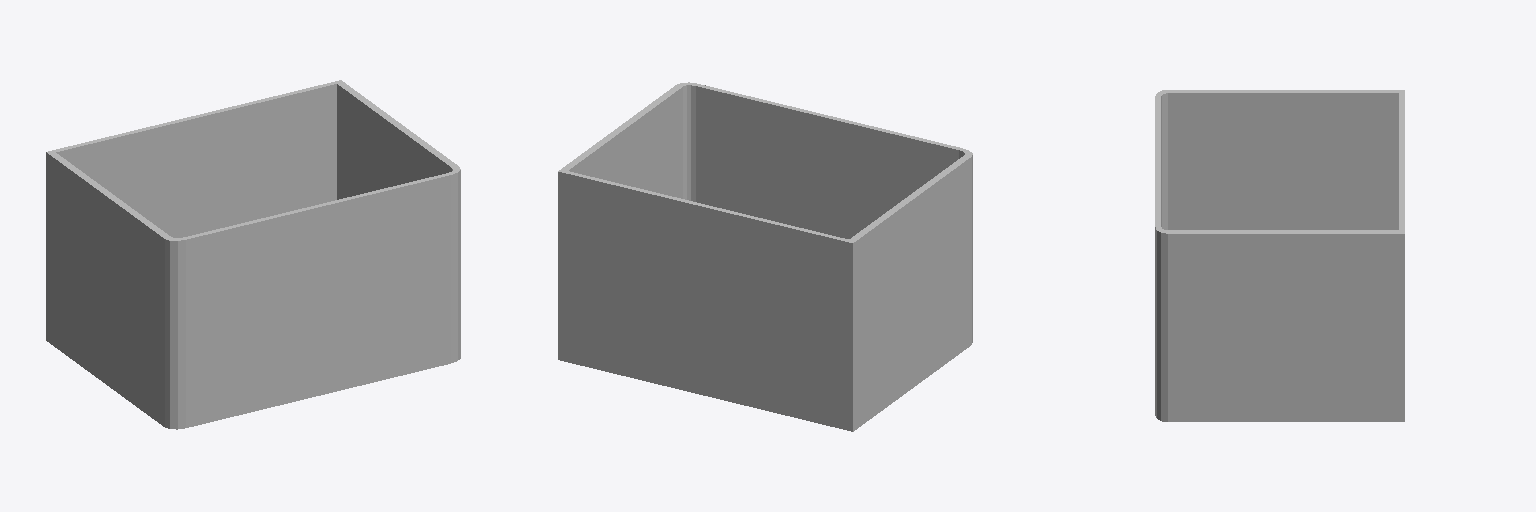
File: PECERA.obj
3 views of the same model, side by side, from view 1: azimuth 30°, elevation 25°; view 2: azimuth 150°, elevation 25°; view 3: azimuth 270°, elevation 25° (orthographic).
Visible parts, largest first — view 1: PECERA; view 2: PECERA; view 3: PECERA.
Boxes of the visible parts, <box> form: PECERA: <box>46,80,460,429</box>; PECERA: <box>558,82,972,431</box>; PECERA: <box>1155,90,1404,421</box>.
Bounding box in the file's own units: 0.4406 × 0.269 × 0.3231.